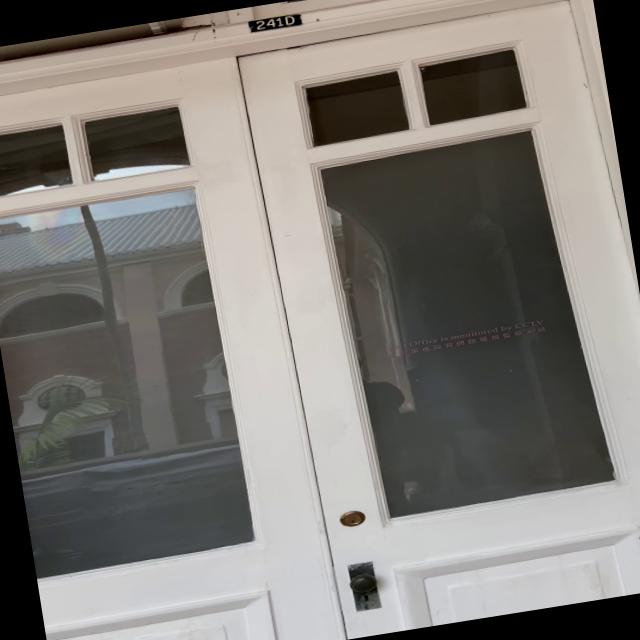room241d: (246, 11, 304, 34)
